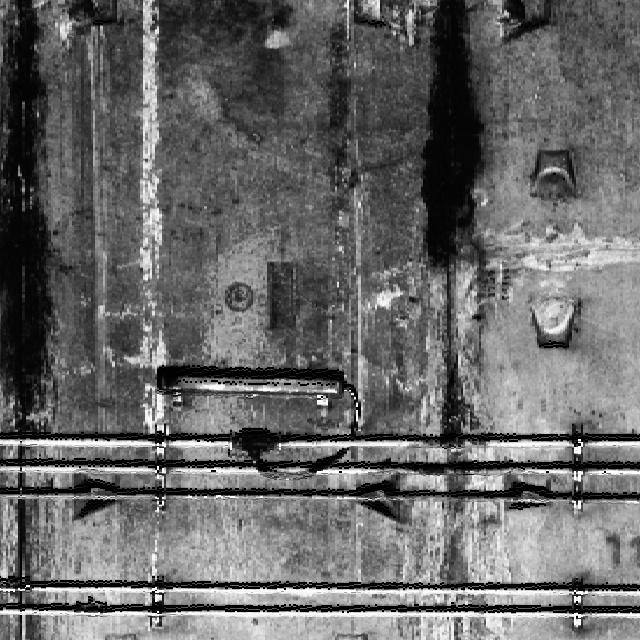leakage: (413, 0, 493, 635), (0, 0, 64, 639)
